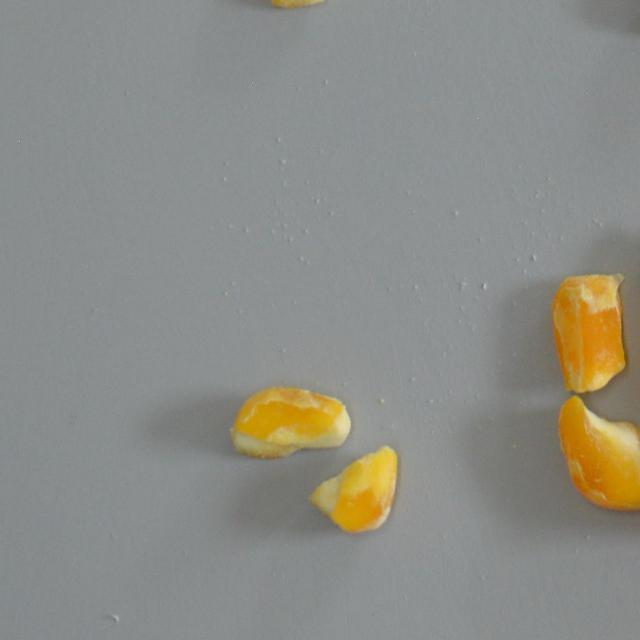dañado: (222, 380, 356, 462), (549, 266, 631, 397), (555, 391, 640, 513), (306, 440, 401, 538), (252, 0, 330, 13)
